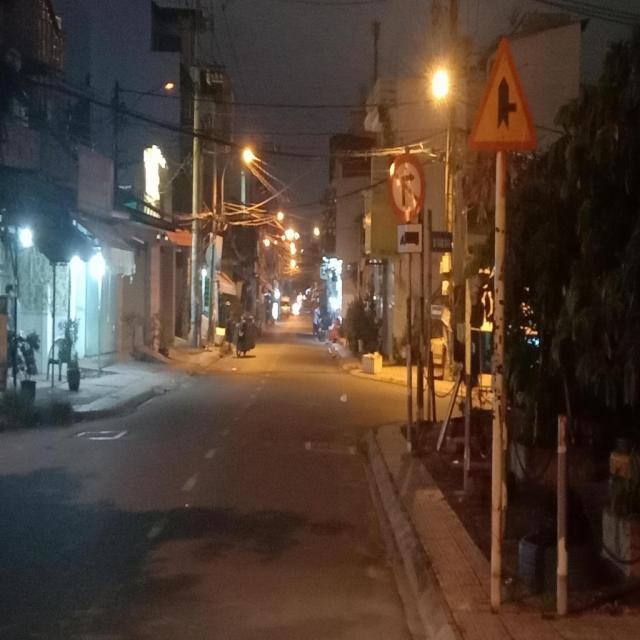cam_re_phai: (386, 154, 426, 221)
giao_nhau_voi_duong_khong_uu_tien: (466, 35, 537, 150)
khac: (398, 222, 423, 254)
